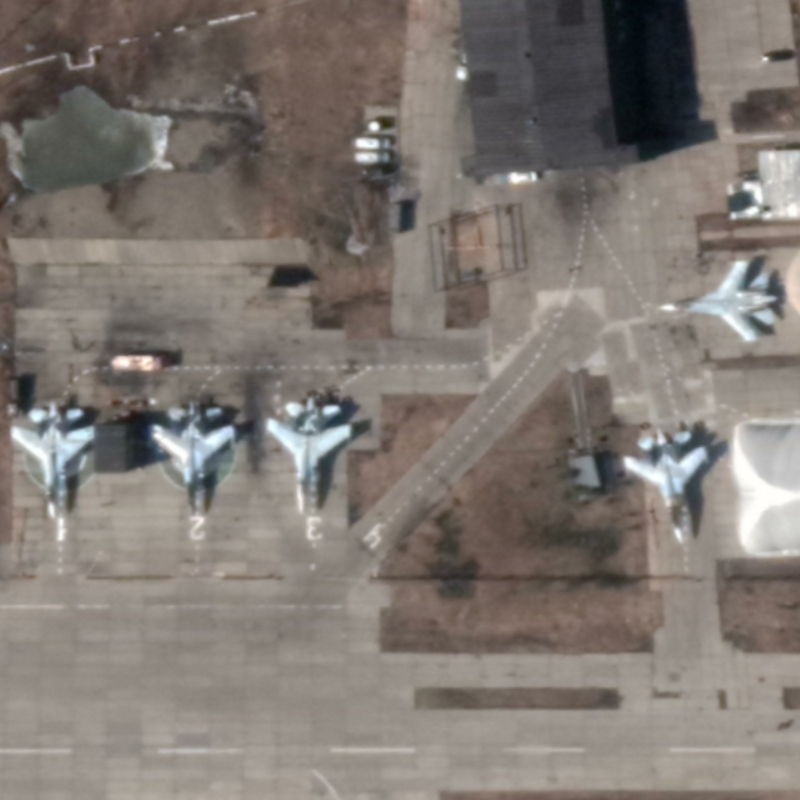A1: (262, 392, 356, 518), (7, 398, 98, 524), (620, 425, 712, 548), (655, 257, 782, 344), (149, 399, 238, 518)
